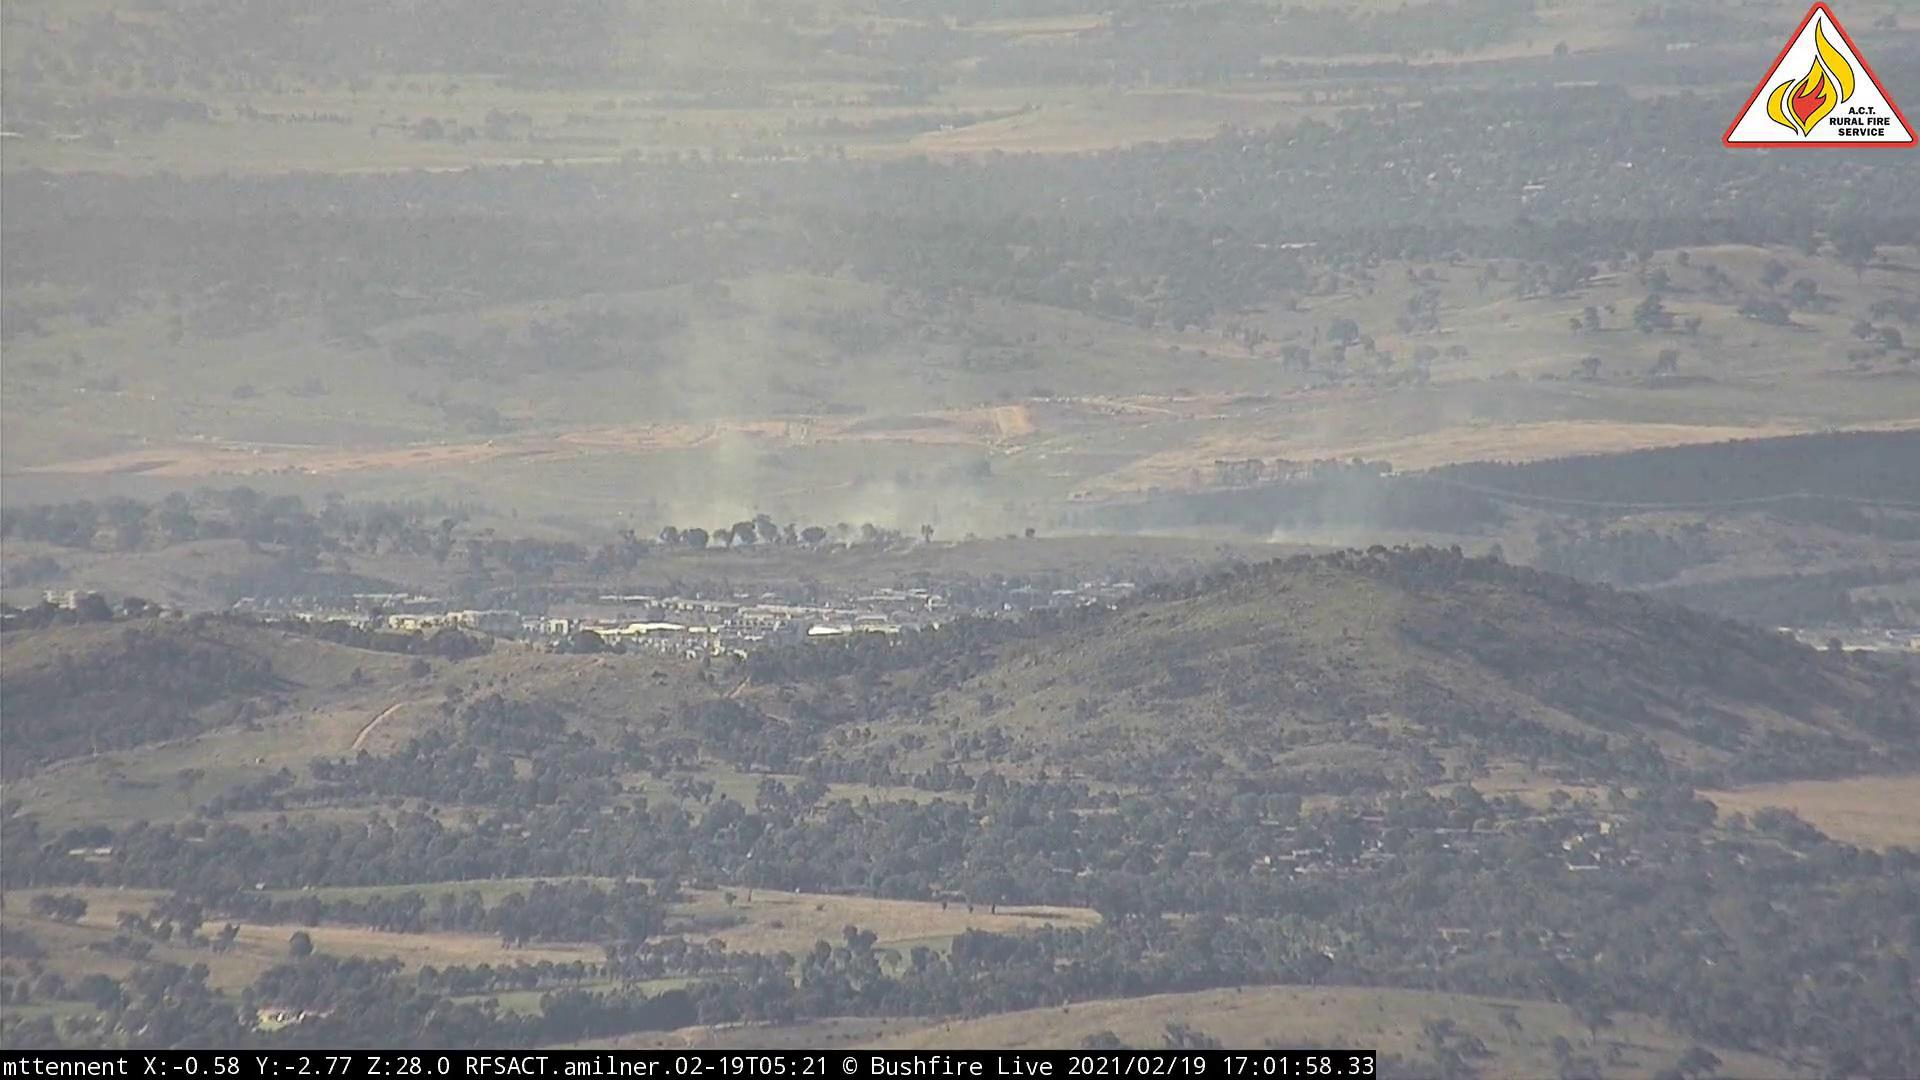Smoke: (658, 335, 1058, 550), (1259, 386, 1440, 546)
